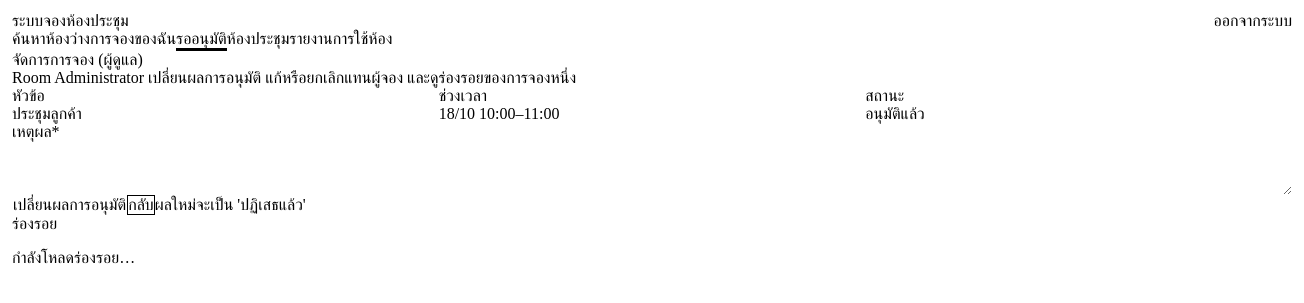
FE-mrr-008 change an approval decision page (UI-mrr-010) › AC-mrr-036 pressed at 10:00 — the api refuses and the page says the meeting has started, status unchanged
Type "อนุมัติผิดห้อง" into the text box with test id "ui-mrr-010-ent-010-reason".
click(652, 168); type("อนุมัติผิดห้อง")  # box [12,141,1292,195]
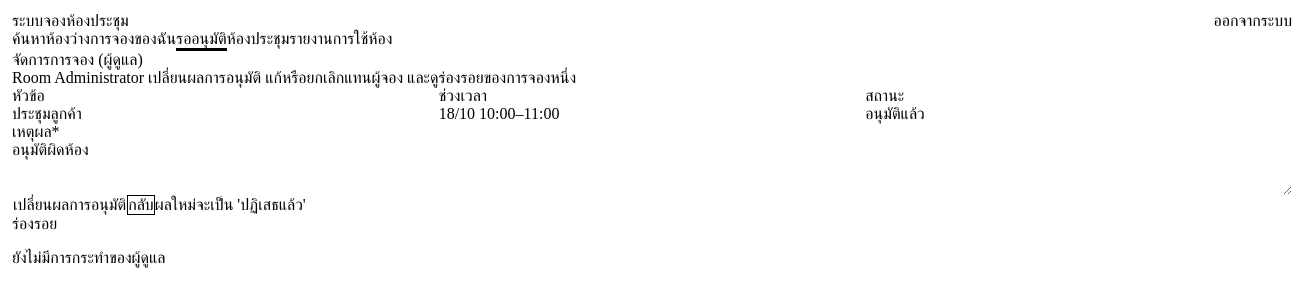
Click the button with test id "ui-mrr-010-change-decision".
click(70, 205)  # box [12,195,127,215]
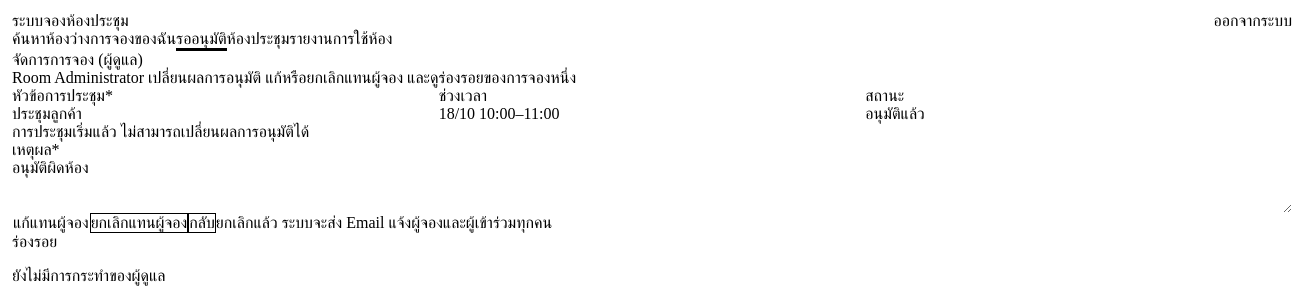
Expected: the text with test id "ui-mrr-010-ent-007-status" reads "อนุมัติแล้ว", [865,105,925,122]
Now the message reads "การประชุมเริ่มแล้ว ไม่สามารถเปลี่ยนผลการอนุมัติได้", box [12,123,309,140]
